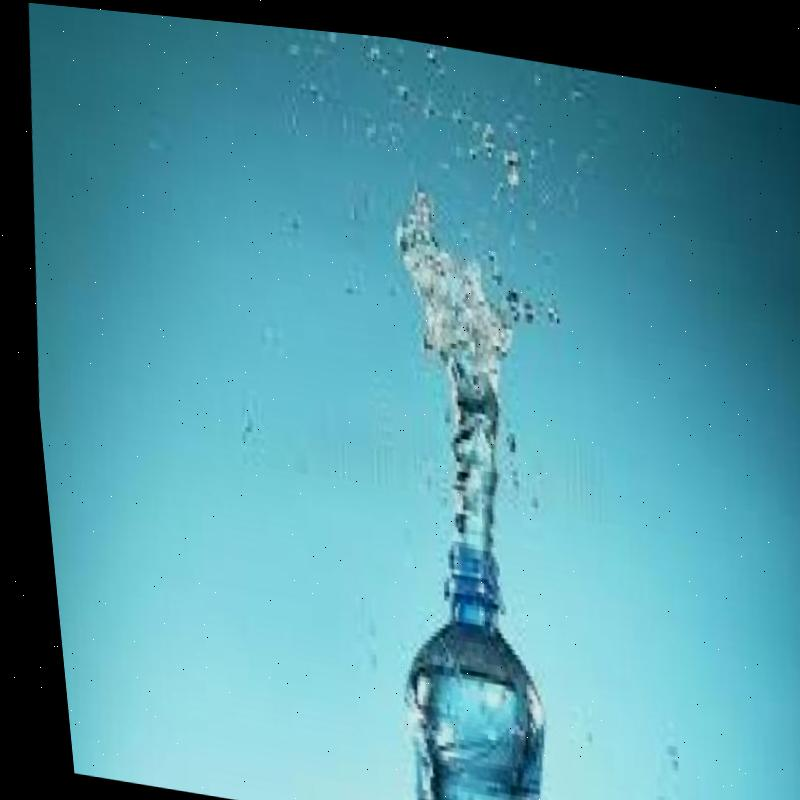botella: (369, 524, 553, 800)
